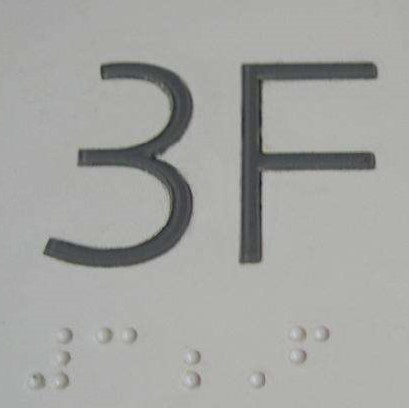Braille: (28, 326, 75, 391), (285, 326, 332, 390), (94, 326, 139, 389), (226, 327, 269, 391), (162, 328, 202, 392)
